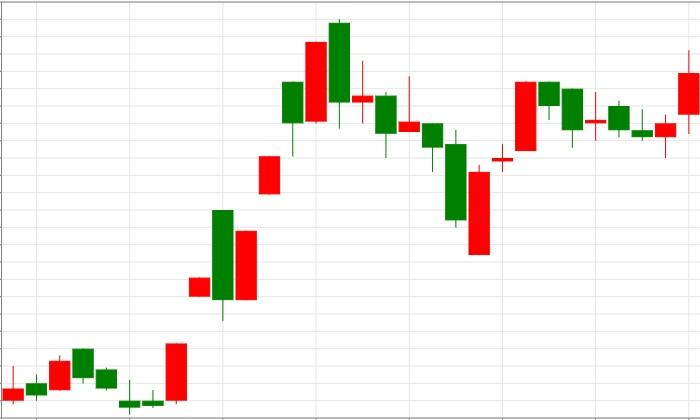bearish_engulfing_fall: (235, 18, 350, 301)
three_white_soldiers_rise: (329, 18, 536, 255)
